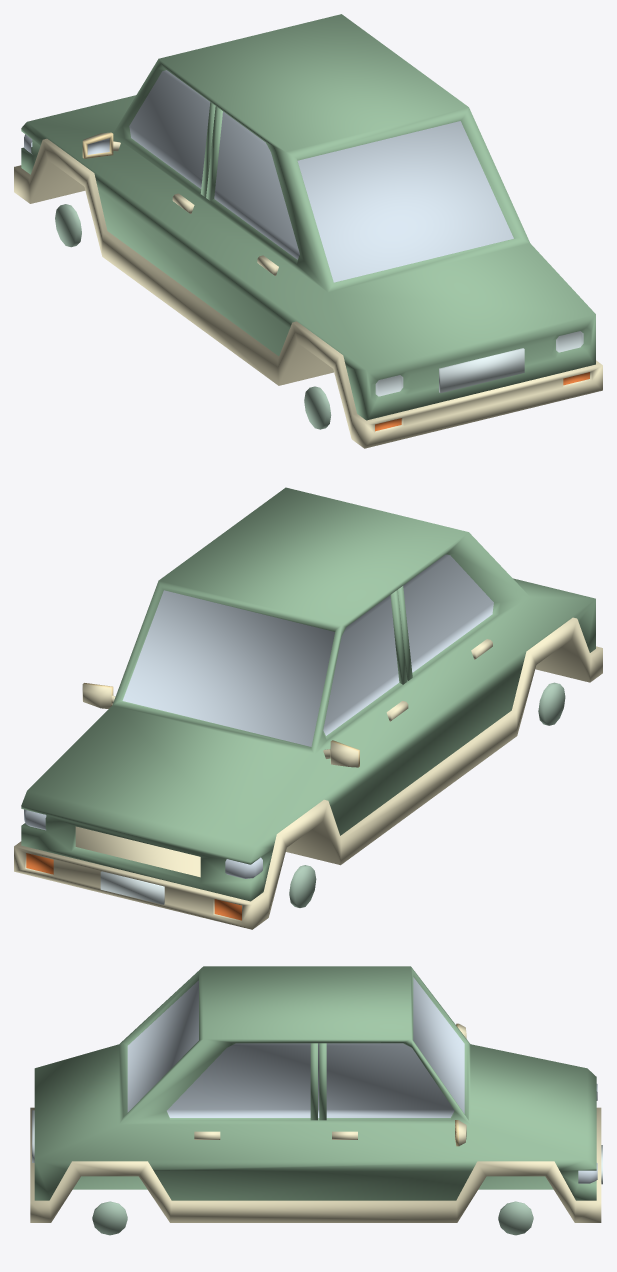
Rendered from Car_10.fbx.
The picture shows the model from 3 angles, top to bottom: view 1: azimuth 30°, elevation 25°; view 2: azimuth 150°, elevation 25°; view 3: azimuth 270°, elevation 25°; orthographic projection. The views are drawn at different scales.
Parts seen in each view (by area): view 1: CarA_T.002; view 2: CarA_T.002; view 3: CarA_T.002.
Part boxes in pixels (<box>): CarA_T.002: <box>14,14,602,448</box>; CarA_T.002: <box>14,487,602,929</box>; CarA_T.002: <box>30,966,602,1235</box>.
Bounding box in the file's own units: 77.68 × 68.68 × 177.
1 material, 1 textured.
